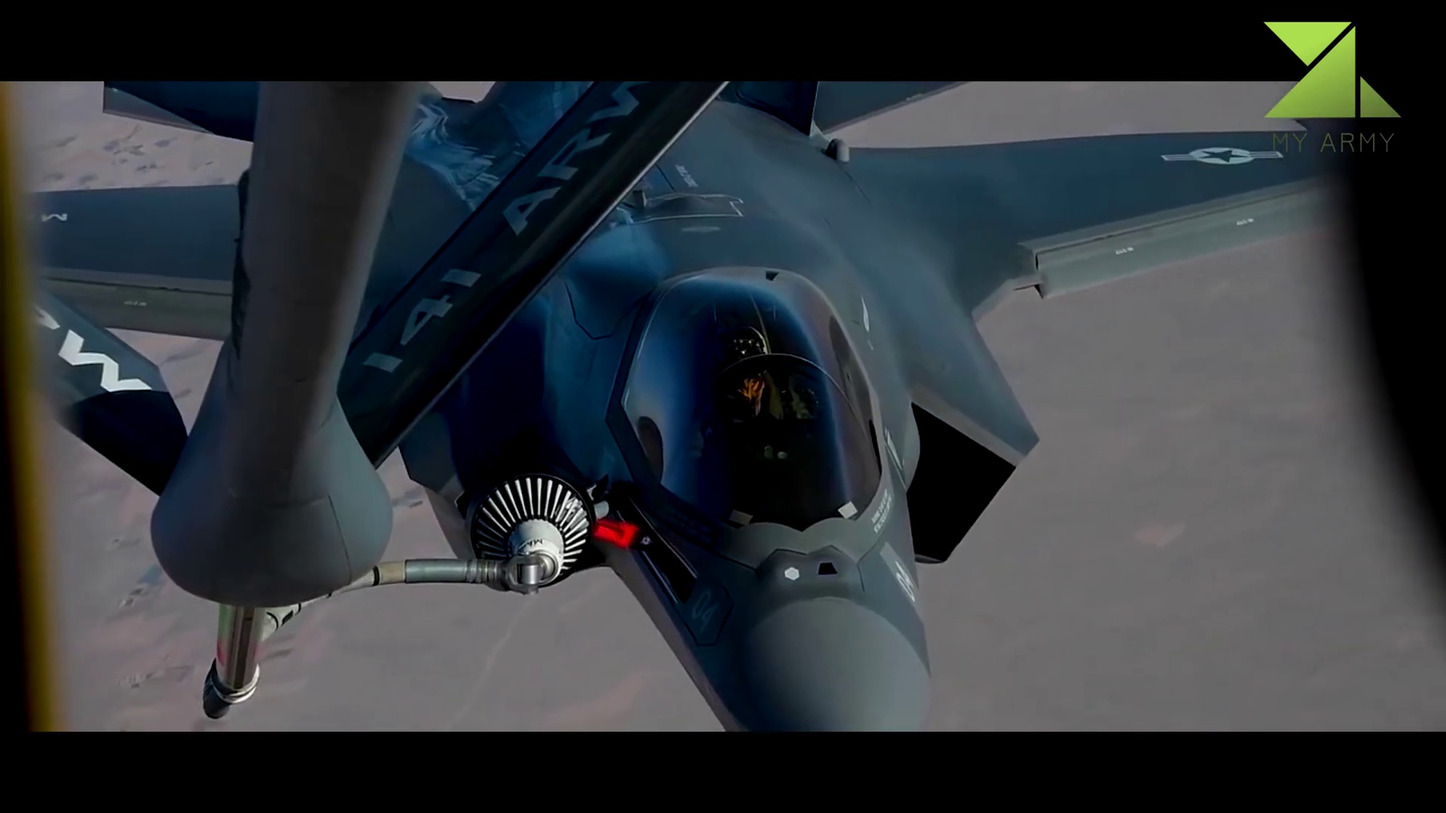F35: (34, 69, 1383, 731)
